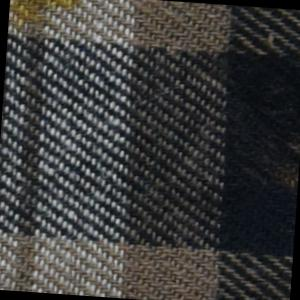Oil Stain: (8, 1, 93, 41), (272, 160, 300, 201)
